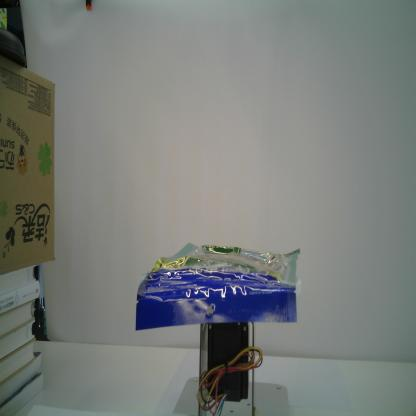Dried Food: (134, 241, 300, 331)
